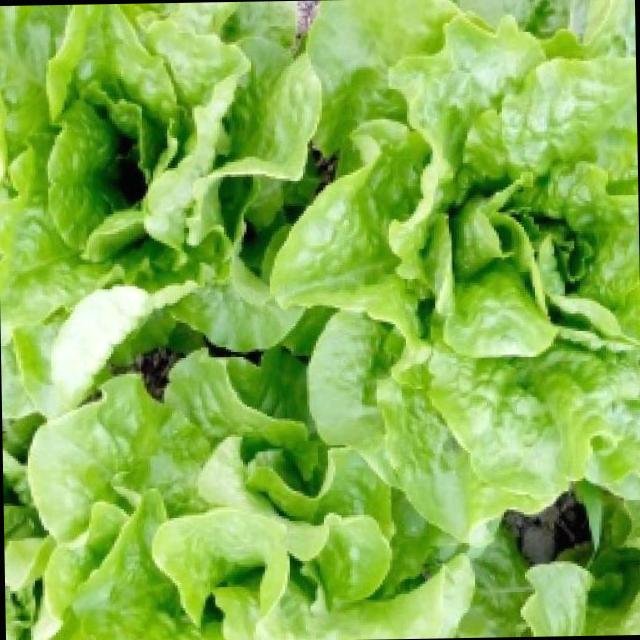Lettuce-Ready-to-Harvest: (269, 0, 640, 541), (0, 2, 324, 425), (27, 347, 473, 640)
